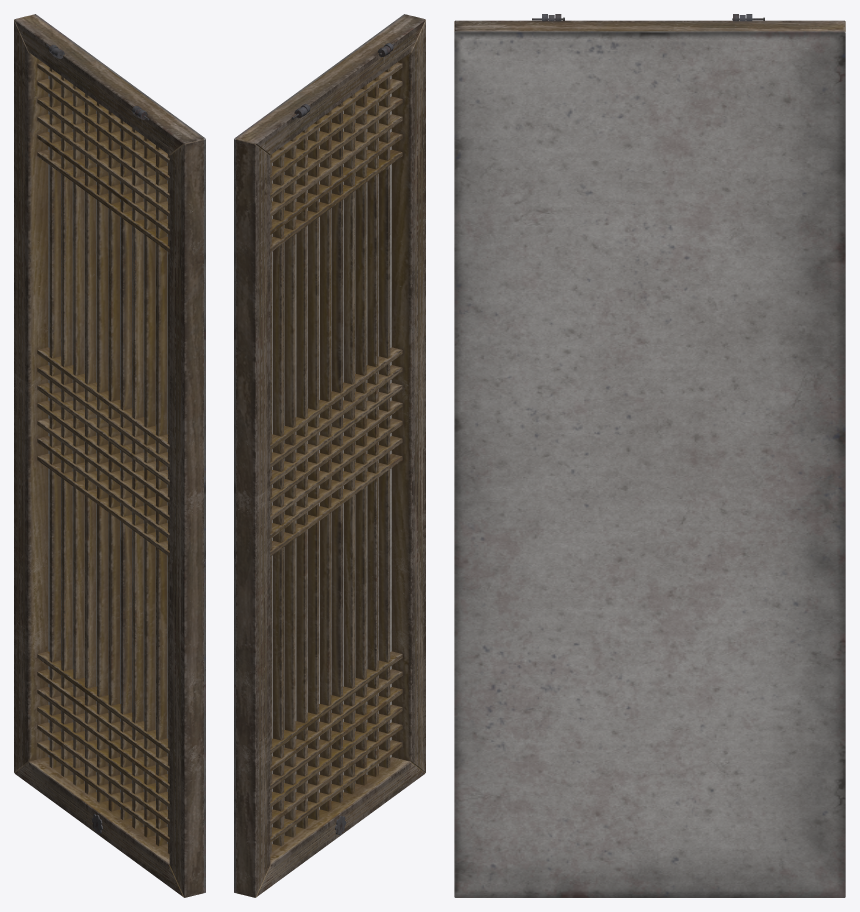
Rendered from SM_GPG_Door02a.fbx.
3 views of the same model, side by side, from view 1: azimuth 30°, elevation 25°; view 2: azimuth 150°, elevation 25°; view 3: azimuth 270°, elevation 25° (orthographic). The views are drawn at different scales.
Visible parts, largest first — view 1: SM_GPG_Door02a; view 2: SM_GPG_Door02a; view 3: SM_GPG_Door02a.
Boxes of the visible parts, x1,y1,x2,y2 form: SM_GPG_Door02a: [14, 14, 205, 897]; SM_GPG_Door02a: [234, 14, 425, 897]; SM_GPG_Door02a: [454, 14, 845, 897].
Bounding box in the file's own units: 7.57 × 82 × 201.
Materials: 1 (1 with a texture image).
